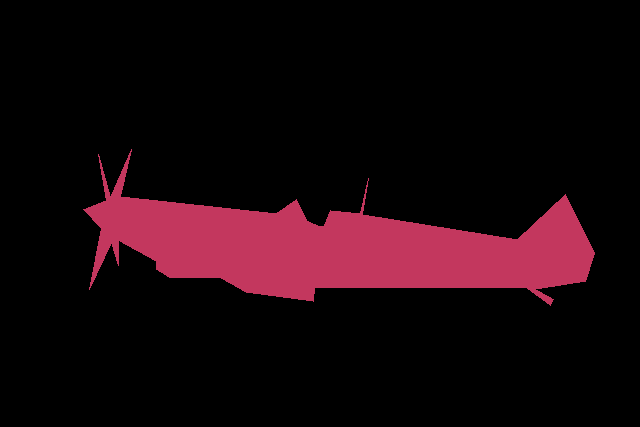Airplane: (83, 149, 595, 306)
